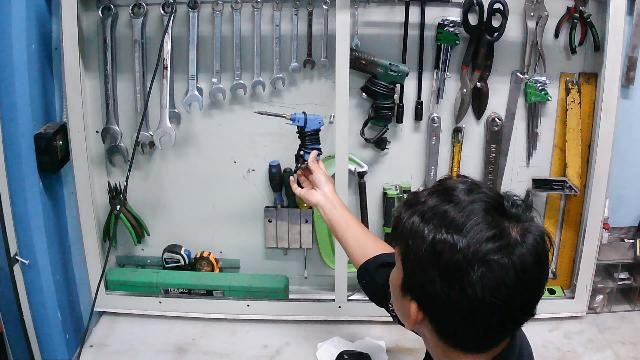solder_electrical: (253, 107, 326, 173)
